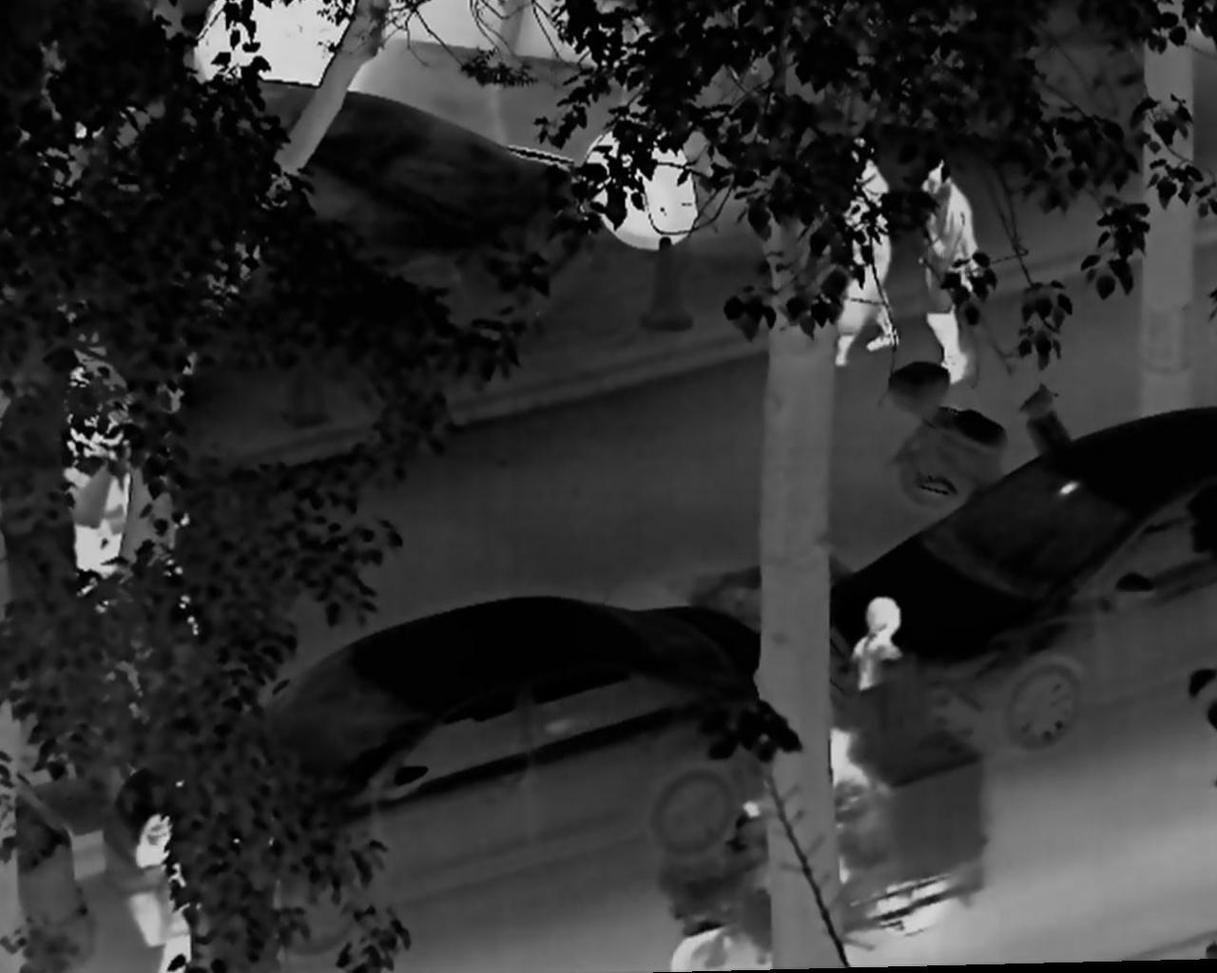person: (739, 709, 879, 919), (92, 422, 209, 654), (126, 801, 256, 973), (48, 362, 131, 610), (834, 134, 904, 368), (912, 152, 980, 386), (846, 587, 915, 702)
